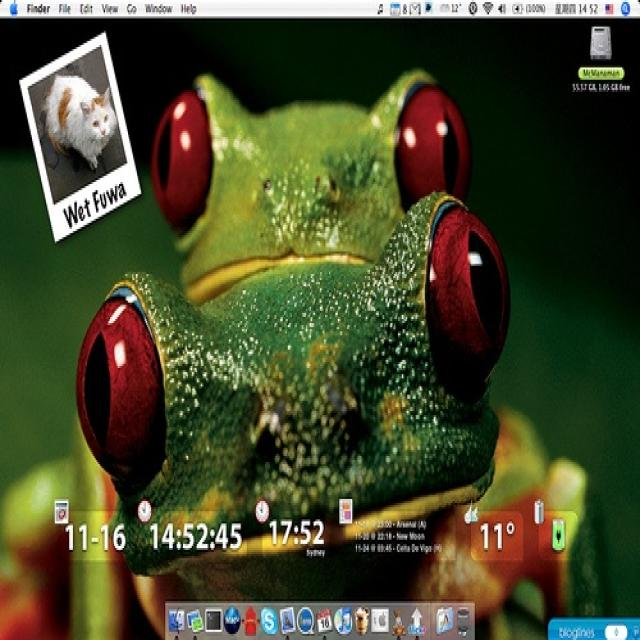cat: (42, 74, 115, 170)
